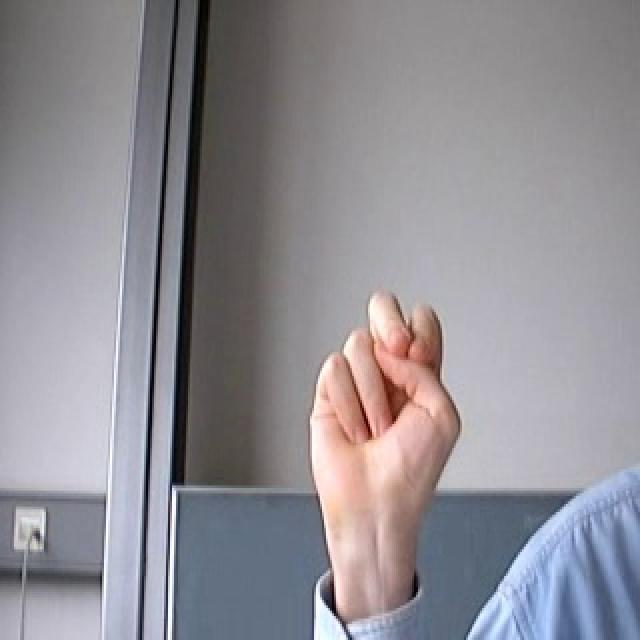N: (299, 269, 476, 530)
